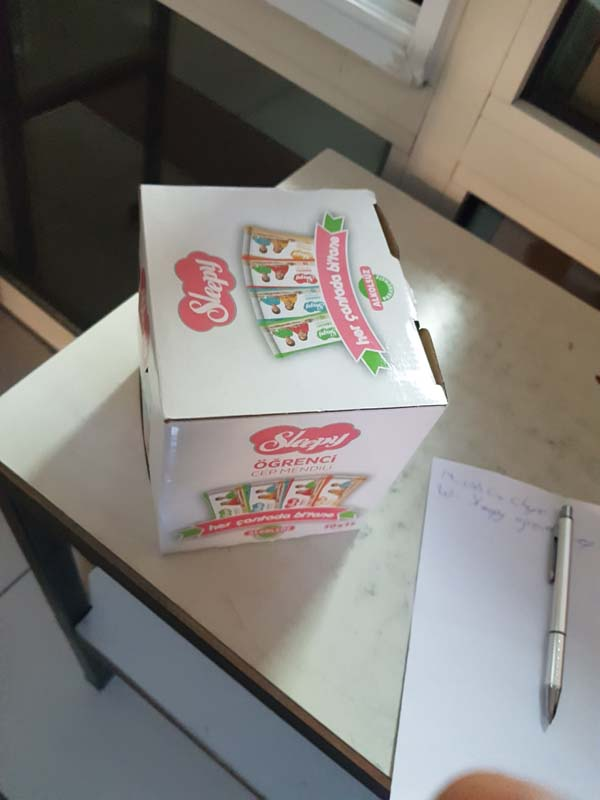sleepyogrencikoli: (136, 175, 450, 599)
